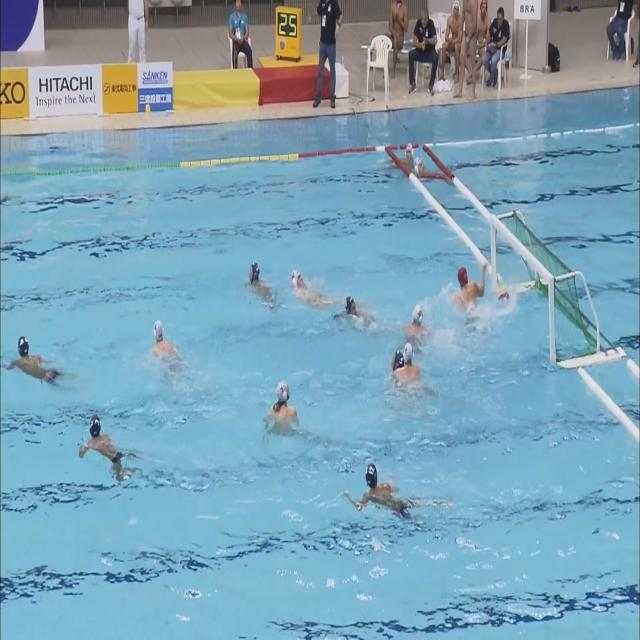ball: (498, 289, 509, 301)
